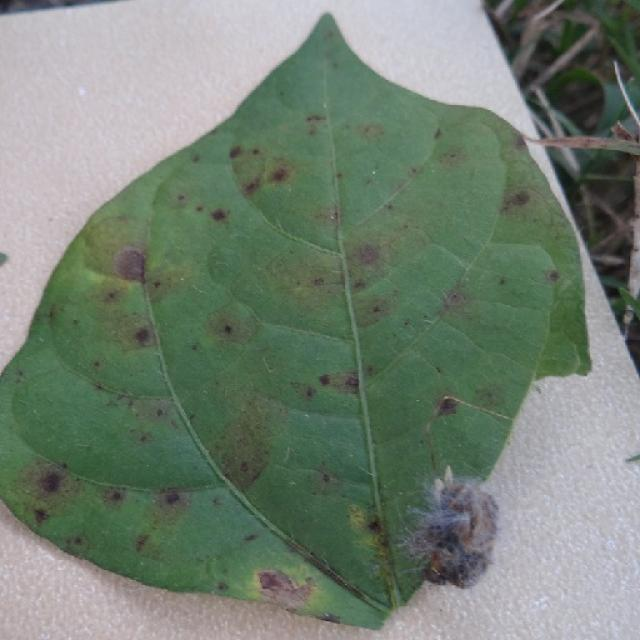Anthracnose: (419, 478, 500, 588), (423, 393, 507, 475), (340, 236, 397, 300), (140, 251, 201, 306), (347, 505, 390, 577), (540, 325, 587, 380), (141, 487, 192, 531), (254, 568, 310, 606), (113, 242, 160, 286), (127, 394, 182, 431), (207, 307, 257, 346), (352, 292, 396, 330), (206, 245, 240, 287), (437, 282, 476, 318), (307, 466, 344, 496), (316, 370, 362, 393), (502, 185, 534, 218), (353, 242, 382, 266), (473, 386, 502, 409), (38, 469, 64, 494), (356, 122, 386, 142), (439, 147, 466, 169), (102, 485, 128, 506), (348, 505, 368, 532), (436, 396, 460, 417), (133, 327, 154, 346), (305, 114, 326, 132), (269, 167, 289, 183), (33, 507, 50, 525), (243, 179, 260, 196), (164, 490, 181, 505), (135, 534, 150, 551), (210, 208, 228, 222), (514, 133, 528, 151), (320, 613, 341, 624), (328, 206, 341, 223), (229, 145, 244, 159), (367, 519, 380, 532), (352, 279, 366, 291), (13, 369, 25, 383), (318, 374, 331, 386), (71, 535, 84, 547), (547, 270, 559, 282), (305, 386, 316, 398), (433, 127, 443, 140), (105, 291, 118, 301), (243, 533, 257, 542), (93, 382, 104, 393), (239, 461, 249, 473), (312, 277, 325, 286), (217, 581, 228, 591), (325, 30, 335, 40), (498, 277, 506, 286), (191, 343, 199, 352), (177, 194, 185, 202), (386, 203, 394, 211), (196, 205, 204, 213), (331, 61, 339, 69), (336, 172, 343, 179)
Blackgram: (0, 16, 590, 628)
